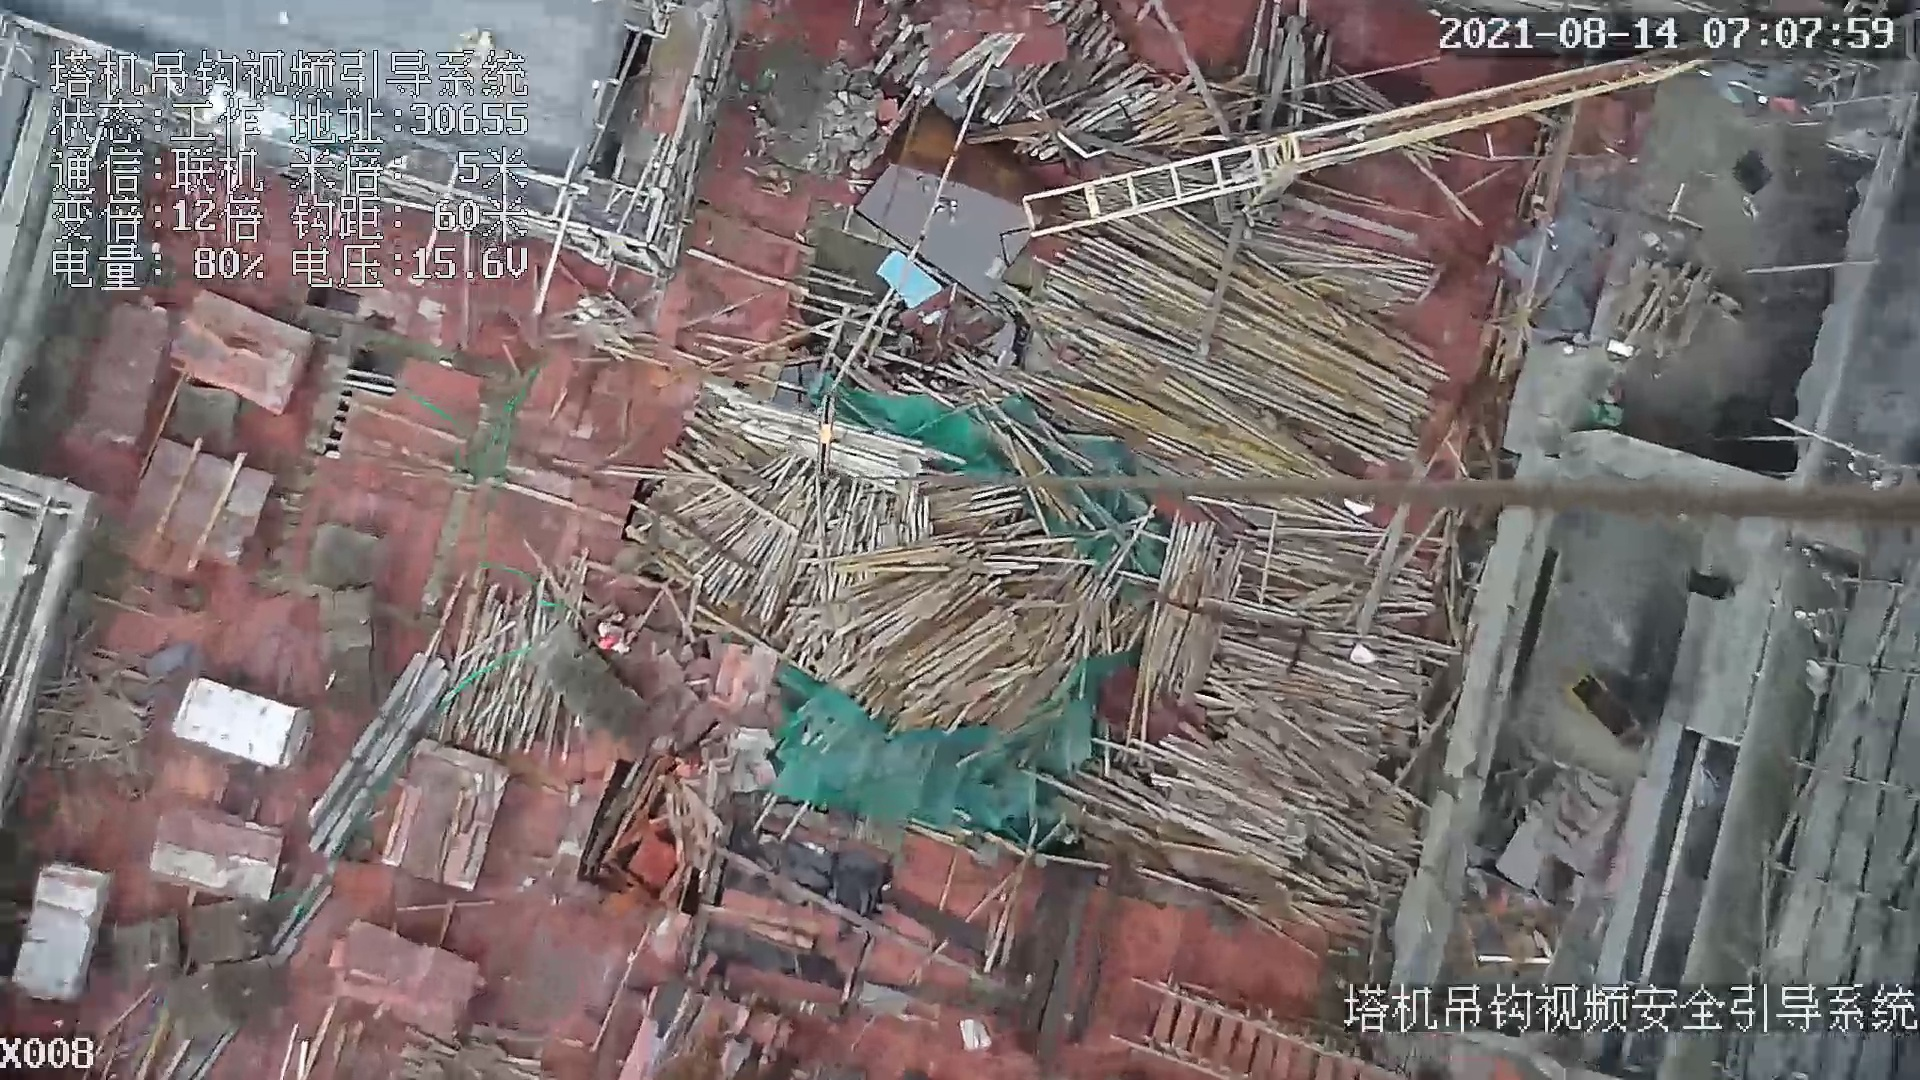hook: (804, 390, 843, 483)
